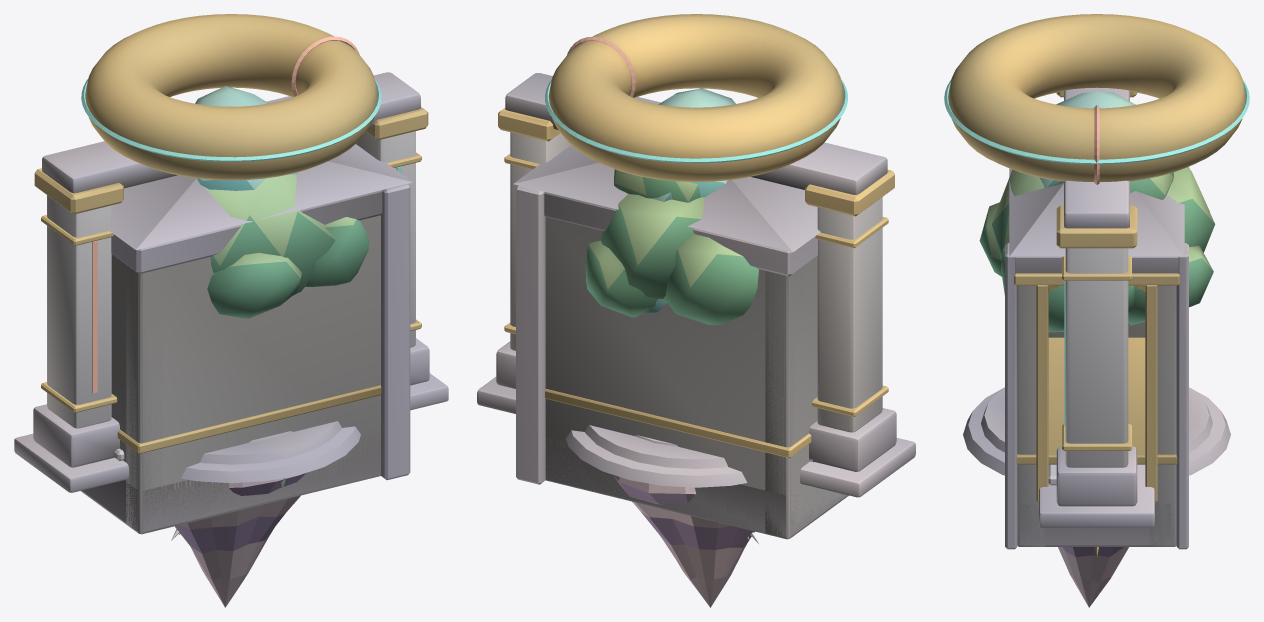
File: torus_props.glb
The picture shows the model from 3 angles, left to right: view 1: azimuth 30°, elevation 25°; view 2: azimuth 150°, elevation 25°; view 3: azimuth 270°, elevation 25°; orthographic projection.
Visible parts, largest first — view 1: bellbox, torus_gate, tw_tree_a_mesh, floater, portal, tw_tree_b_mesh; view 2: bellbox, torus_gate, tw_tree_a_mesh, floater, portal, tw_tree_b_mesh; view 3: torus_gate, bellbox, tw_tree_a_mesh, portal, floater, tw_tree_b_mesh.
Boxes of the visible parts, x1,y1,x2,y2 form: bellbox: (81,144,412,534); torus_gate: (14,14,448,492); tw_tree_a_mesh: (203,174,369,318); floater: (171,473,306,607); portal: (181,421,360,483); tw_tree_b_mesh: (195,86,297,190); bellbox: (513,145,848,539); torus_gate: (477,14,915,497); tw_tree_a_mesh: (585,169,758,324); floater: (613,475,759,607); portal: (565,425,747,487); tw_tree_b_mesh: (643,88,735,313); torus_gate: (944,14,1249,527); bellbox: (1005,168,1188,549); tw_tree_a_mesh: (979,166,1215,332); portal: (963,387,1230,475); floater: (1058,547,1128,607); tw_tree_b_mesh: (1039,91,1173,187).
Size of the model in its own units: 5 by 6.81 by 3.42.
